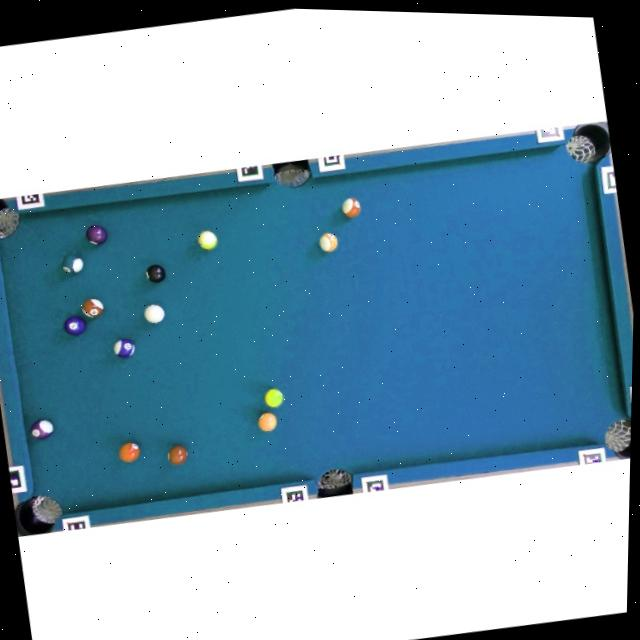cue ball: (143, 302, 166, 325)
other: (117, 440, 142, 465), (28, 418, 55, 441), (80, 297, 105, 320), (340, 196, 363, 220), (113, 337, 137, 360), (63, 315, 88, 337), (256, 410, 279, 433), (61, 252, 84, 275), (85, 224, 109, 246), (166, 444, 189, 466), (144, 262, 167, 284), (197, 229, 219, 252), (263, 387, 285, 409), (318, 232, 339, 254)
